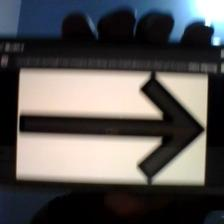right: (21, 75, 205, 182)
